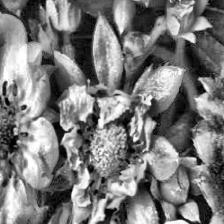Blossom Blight: (75, 104, 146, 198), (0, 78, 31, 186)
